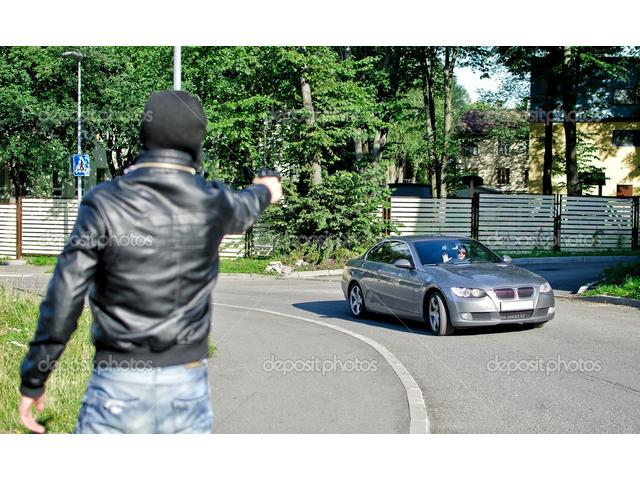pistol: (253, 168, 286, 203)
